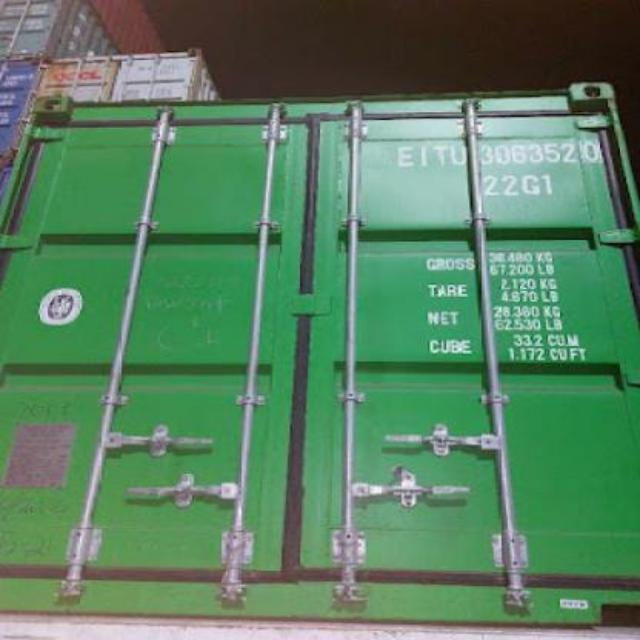0: (580, 138, 606, 166), (494, 139, 510, 171)
2: (558, 136, 578, 168)
3: (524, 138, 544, 170), (478, 140, 494, 168)
5: (544, 136, 558, 168)
6: (512, 142, 526, 168)
E: (398, 142, 416, 170)
T: (430, 138, 450, 170), (414, 133, 430, 171)
U: (450, 136, 466, 168)
